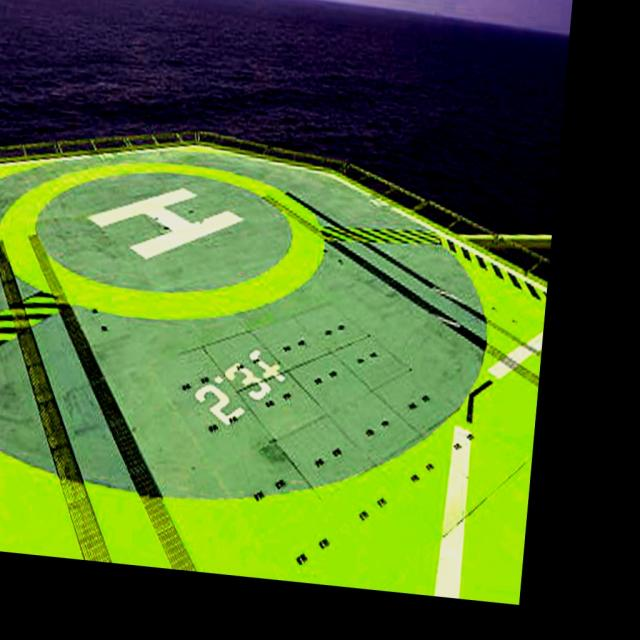helipad: (0, 155, 326, 325)
